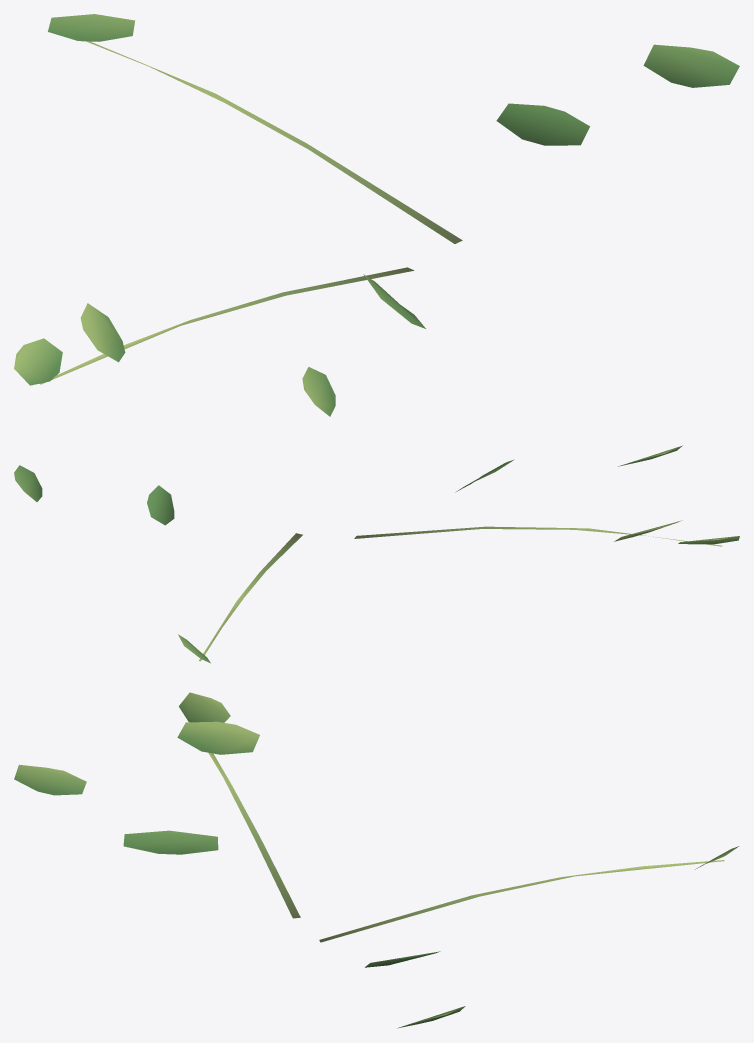
Rendered from GroundIvy_LOD1.glb.
3 renders of one model, top to bottom at view 1: azimuth 30°, elevation 25°; view 2: azimuth 150°, elevation 25°; view 3: azimuth 270°, elevation 25°, orthographic. The views are drawn at different scales.
Visible parts, largest first — view 1: GroundIvy_LOD1; view 2: GroundIvy_LOD1; view 3: GroundIvy_LOD1.
Boxes of the visible parts, <box> form: GroundIvy_LOD1: <box>14,14,739,416</box>; GroundIvy_LOD1: <box>14,445,739,663</box>; GroundIvy_LOD1: <box>14,692,739,1028</box>.
Size of the model in its own units: 0.3365 by 0.0261 by 0.3173.
